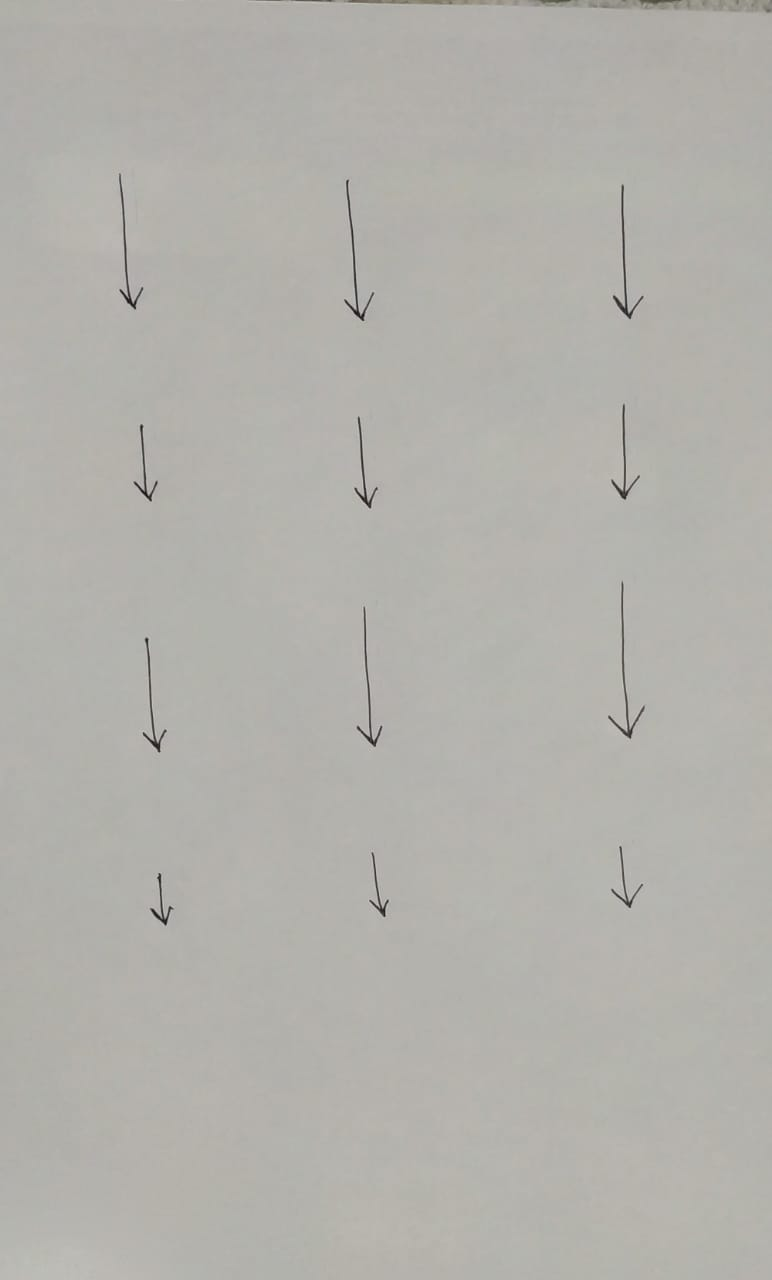arrow_line_down: (320, 168, 392, 335), (595, 564, 657, 750), (599, 174, 659, 330), (345, 595, 402, 759), (124, 628, 181, 767), (106, 163, 152, 318), (338, 403, 391, 525), (603, 396, 649, 517), (124, 416, 175, 516), (602, 837, 650, 916), (357, 842, 396, 928), (143, 863, 182, 938)
